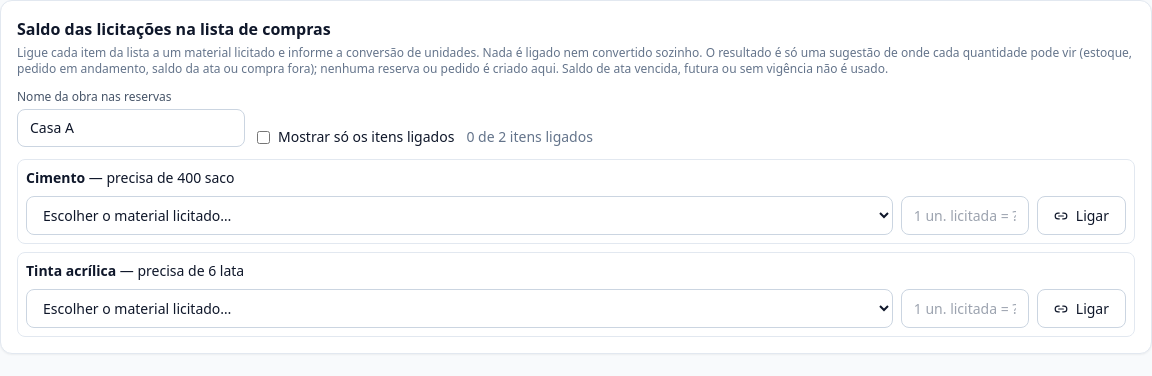
saldo das licitações na lista de compras (tela) › desligar remove a ligação; "só ligados" filtra a lista
Select "Cimento CP II 50 kg — 10/2026 (saco)" in the dropdown named "Material licitado para Cimento". click: (459, 216)
box: [26,196,893,235]
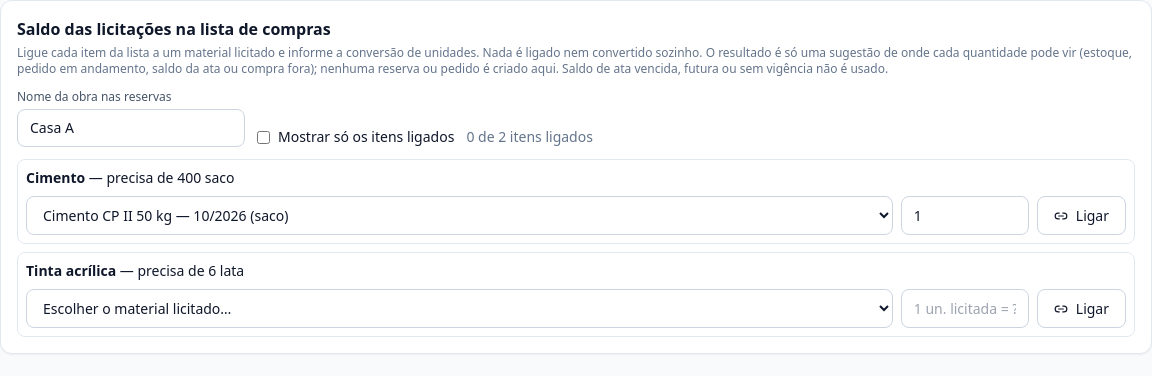
Click the 1st button "Ligar". click: (1081, 216)
box: [1037,196,1126,235]
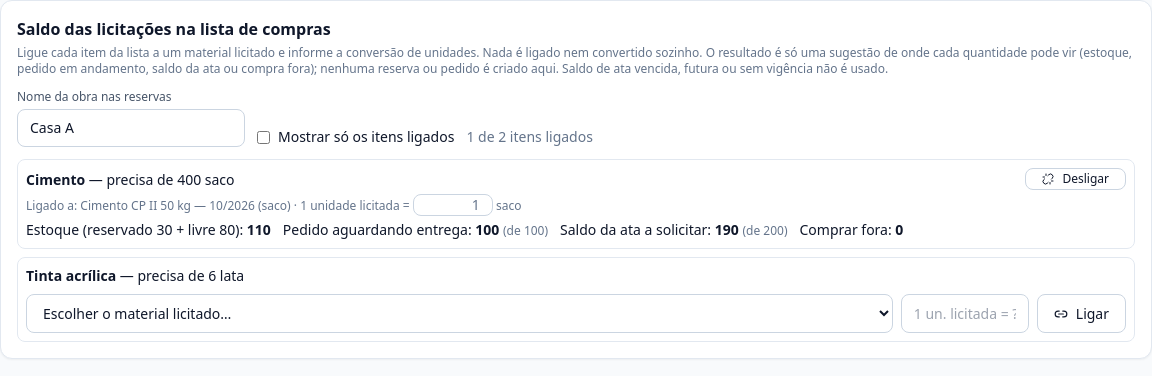
Now the text "Estoque (reservado 30 + livre 80): 110" is shown, box [26,220,271,239]
Click the checkbox labelled "Mostrar só os itens ligados". click: (264, 137)
box: [257,130,270,144]
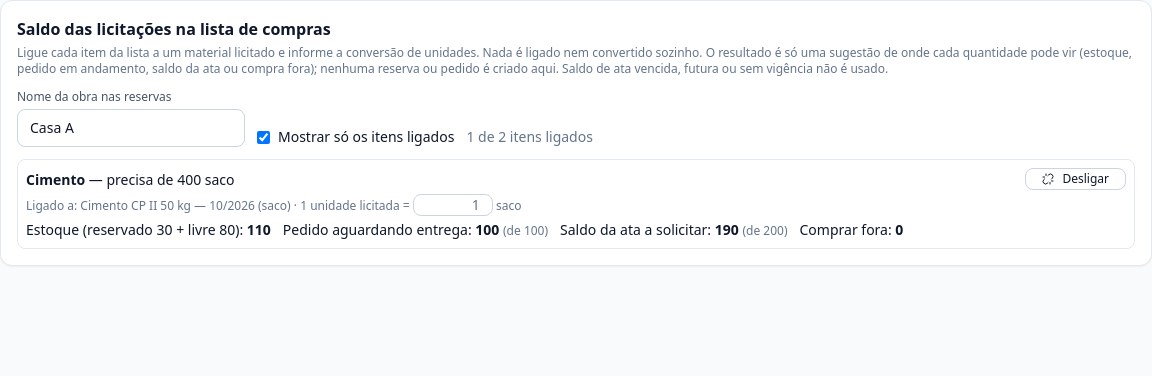
Now the text "Tinta acrílica" is gone
Click the button "Desligar". click: (1076, 179)
box: [1026,168,1126,190]
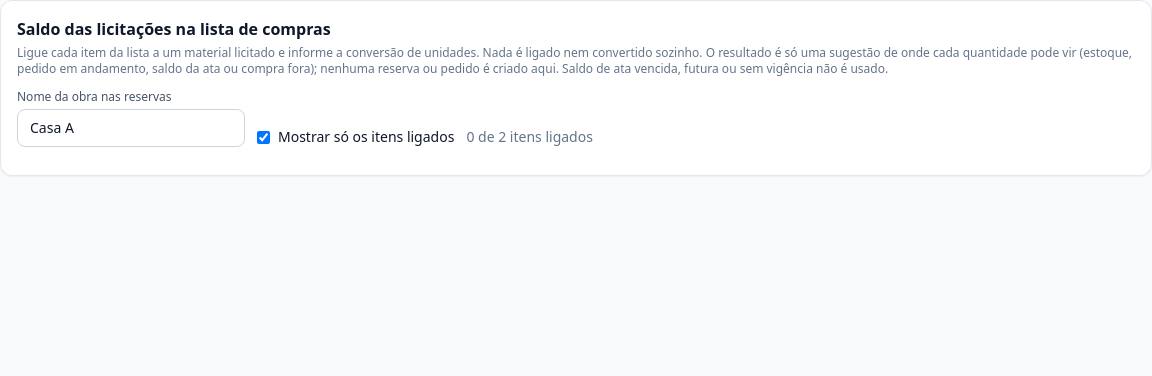
Now the text "0 de 2 itens ligados" is shown, box [466,127,593,147]
